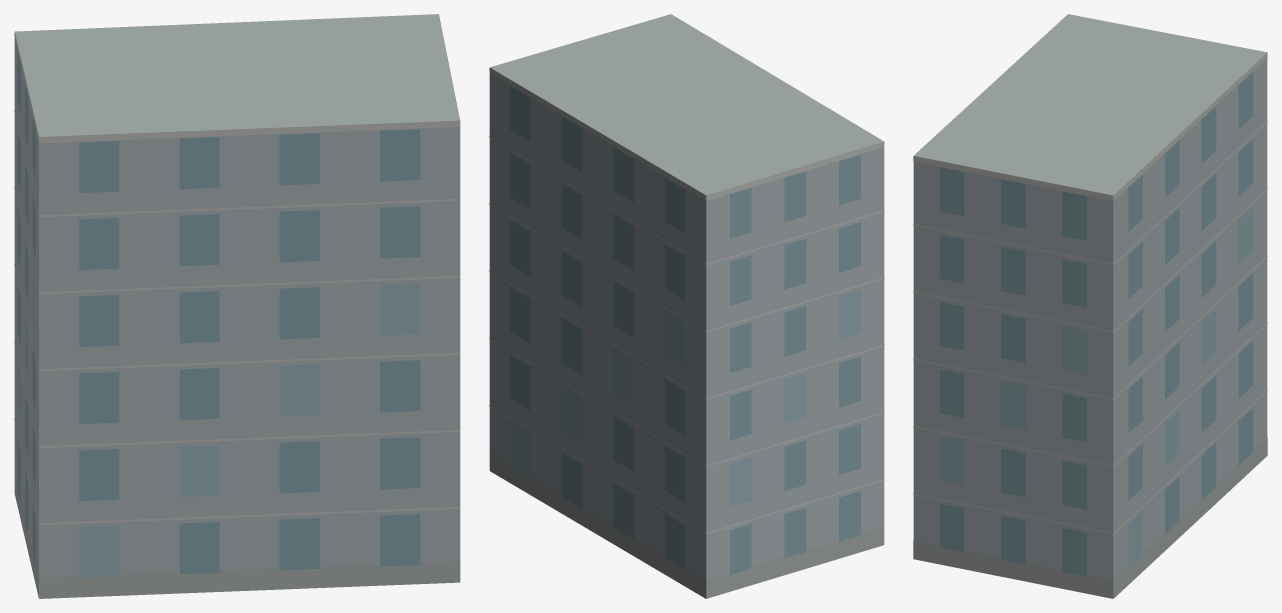
File: survey-upis-33011483.glb
3 renders of one model, left to right at view 1: azimuth 30°, elevation 25°; view 2: azimuth 150°, elevation 25°; view 3: azimuth 270°, elevation 25°, orthographic. The views are drawn at different scales.
Parts seen in each view (by area): view 1: survey-upis-33011483.tmp; view 2: survey-upis-33011483.tmp; view 3: survey-upis-33011483.tmp.
Boxes of the visible parts, x1,y1,x2,y2 form: survey-upis-33011483.tmp: (14,14,460,598); survey-upis-33011483.tmp: (489,14,884,598); survey-upis-33011483.tmp: (913,14,1267,598).
Bounding box in the file's own units: 17.1 × 17.7 × 14.1.
